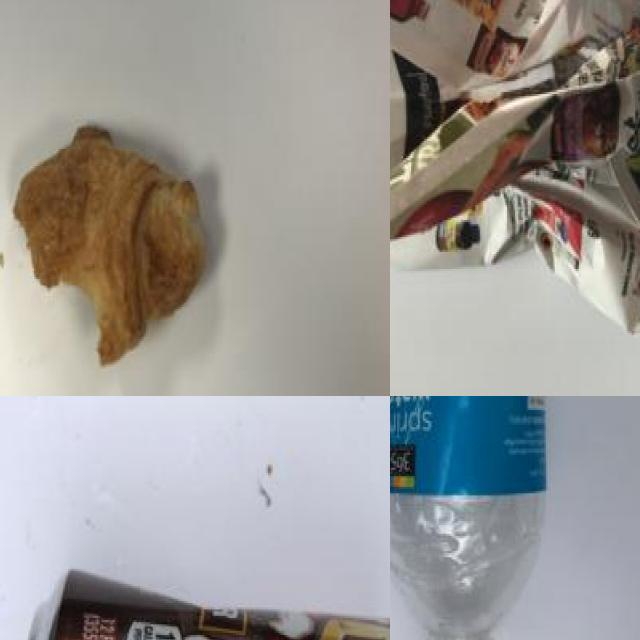compost: (0, 122, 222, 364)
paper: (390, 0, 640, 343)
plastic: (390, 396, 570, 640), (17, 573, 390, 640)
